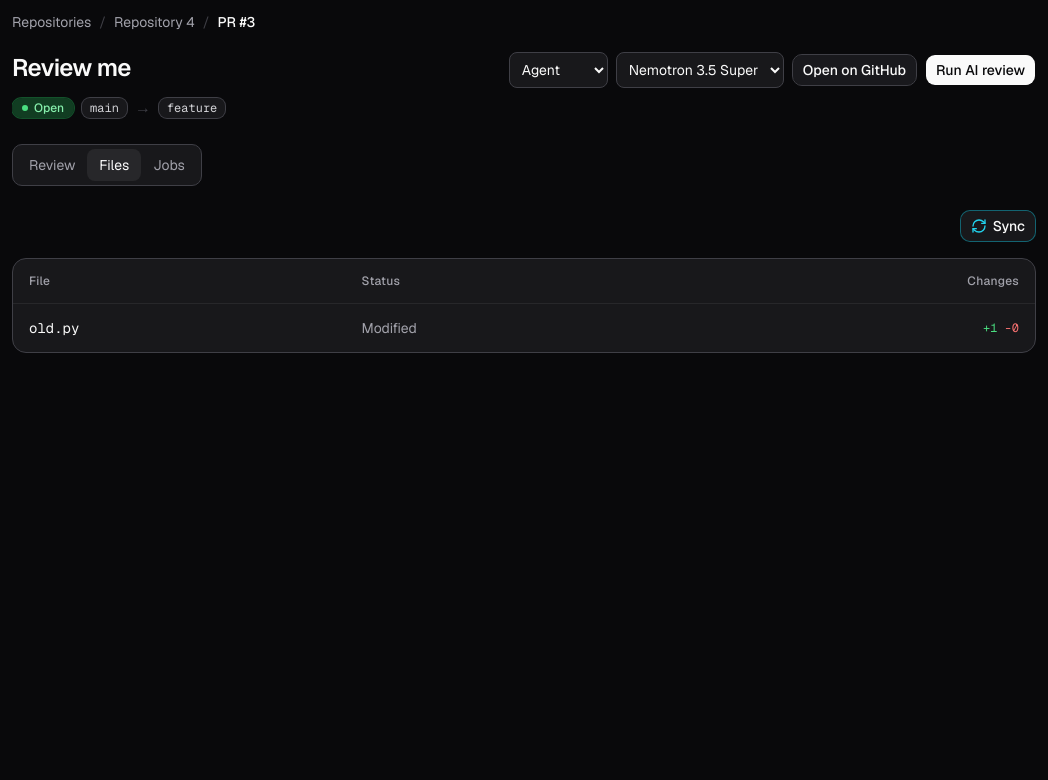
it: sync writes the query cache for the active list › replaces the changed-file cache after sync files
Expected: the link "old.py" is shown, [29,318,79,336]
Click the button with aria-label "Sync files": (998, 226) [960,210,1036,242]
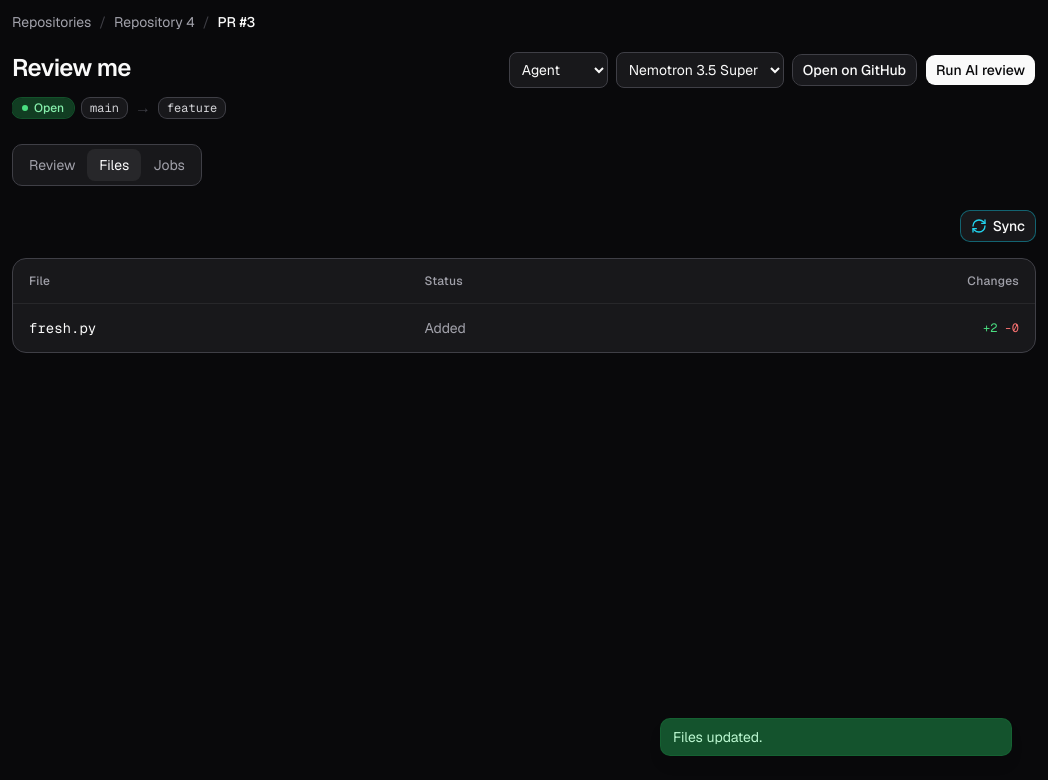
Expected: the link "fresh.py" is shown, [29,318,96,336]
Expected: the link "old.py" is gone
